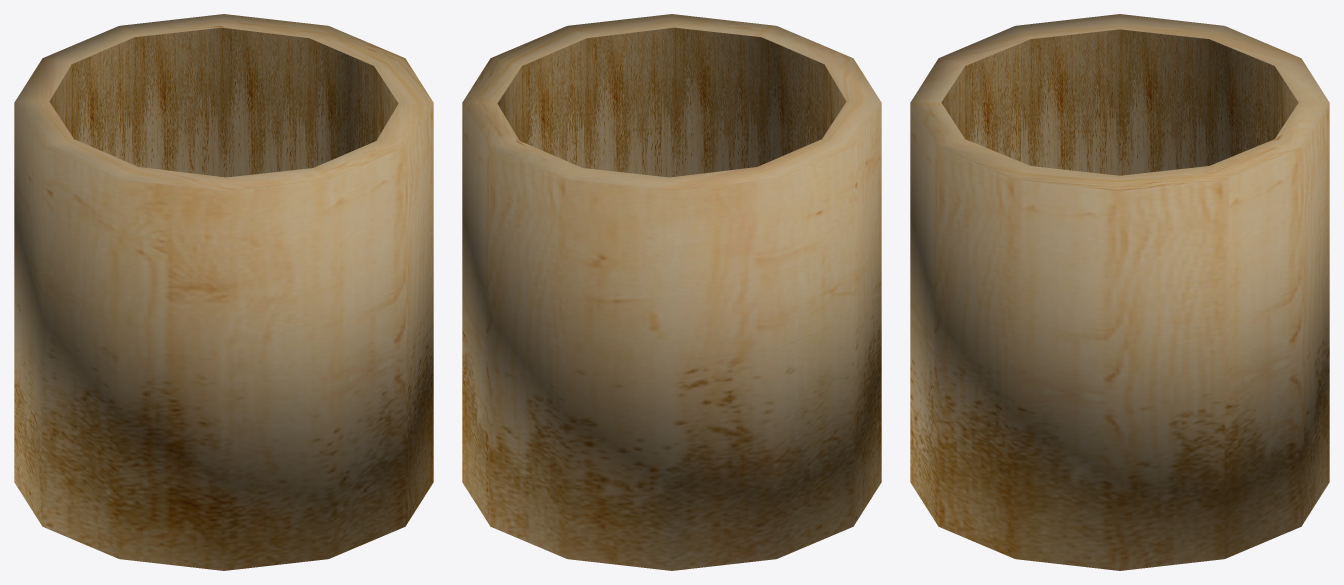
The model's file is WoodenCup.fbx.
3 renders of one model, left to right at view 1: azimuth 30°, elevation 25°; view 2: azimuth 150°, elevation 25°; view 3: azimuth 270°, elevation 25°, orthographic.
Visible parts, largest first — view 1: Cup; view 2: Cup; view 3: Cup.
Boxes of the visible parts, bbox=[...] form: Cup: bbox=[14, 14, 433, 570]; Cup: bbox=[462, 14, 881, 570]; Cup: bbox=[910, 14, 1329, 570].
Bounding box in the file's own units: 4.99 × 4.99 × 4.99.
